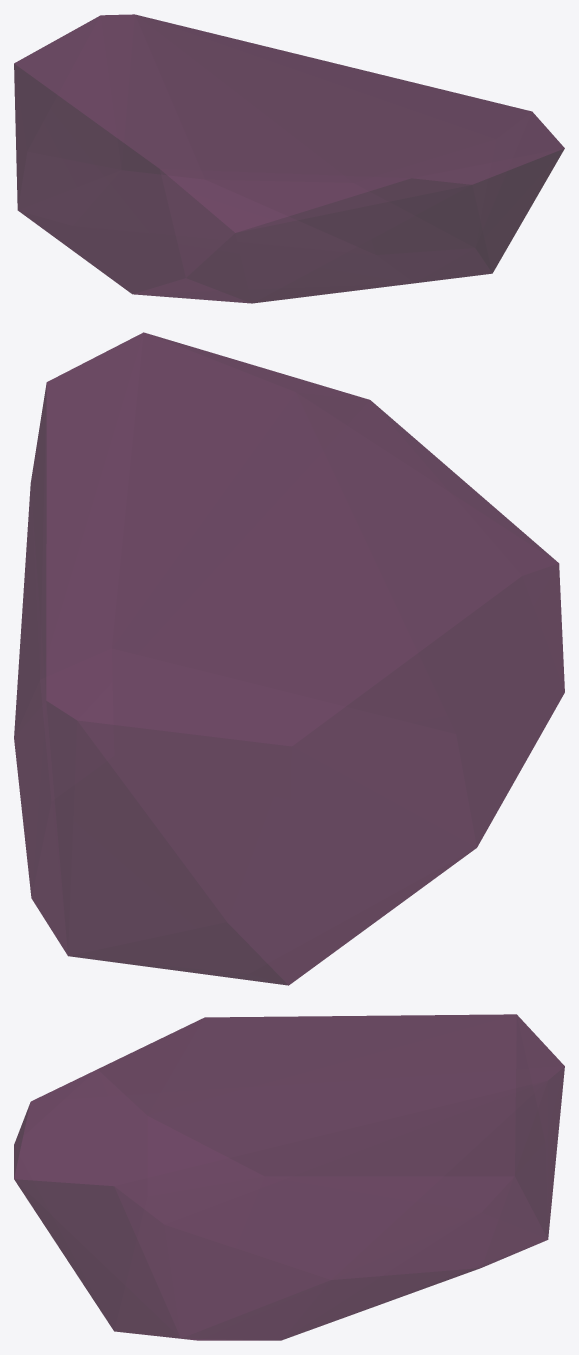
3 views of the same model, one above another, from view 1: azimuth 30°, elevation 25°; view 2: azimuth 150°, elevation 25°; view 3: azimuth 270°, elevation 25° (orthographic). The views are drawn at different scales.
Visible parts, largest first — view 1: Shape_IndexedFaceSet.009_Shape_IndexedFaceSet.9020; view 2: Shape_IndexedFaceSet.009_Shape_IndexedFaceSet.9020; view 3: Shape_IndexedFaceSet.009_Shape_IndexedFaceSet.9020.
Part boxes in pixels (x1,y1,x2,y2): Shape_IndexedFaceSet.009_Shape_IndexedFaceSet.9020: (14,14,564,303); Shape_IndexedFaceSet.009_Shape_IndexedFaceSet.9020: (14,332,564,985); Shape_IndexedFaceSet.009_Shape_IndexedFaceSet.9020: (14,1014,564,1340).
Size of the model in its own units: 0.0587 by 0.0303 by 0.0768.
